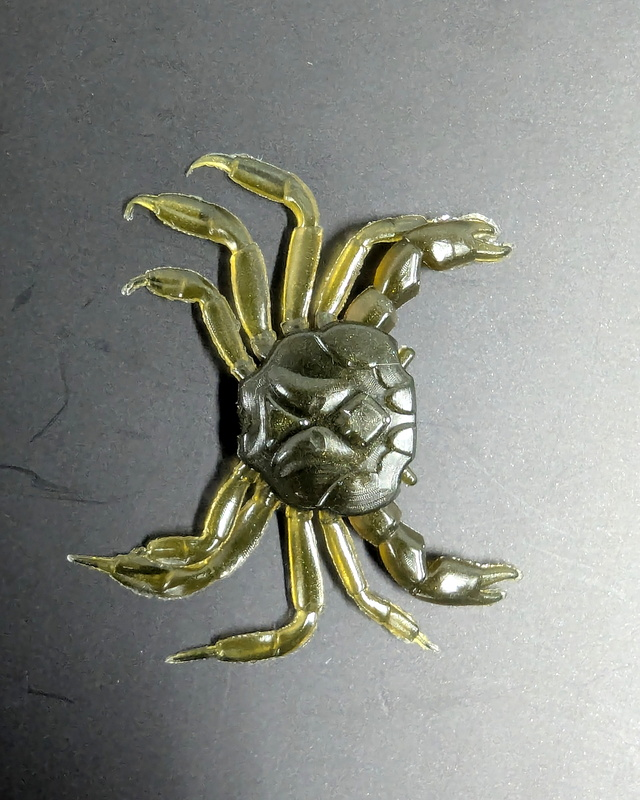crab2: (64, 150, 524, 665)
